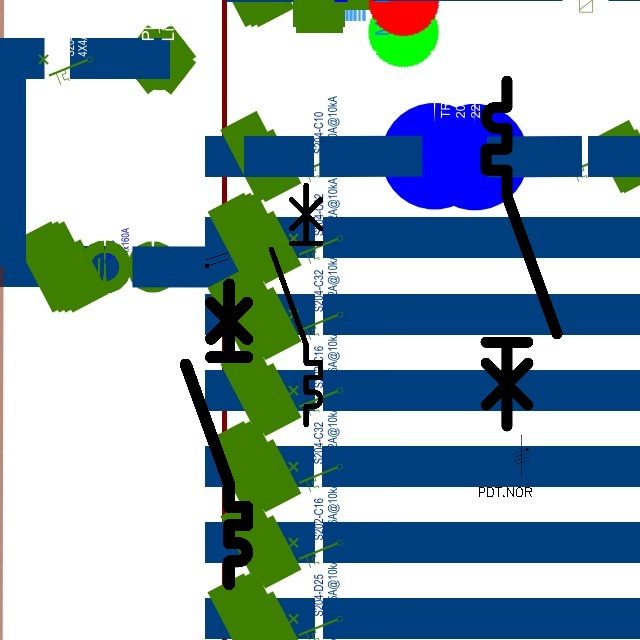interruptor_termomagnetico: (477, 72, 566, 435), (178, 276, 255, 591), (265, 179, 327, 431)
